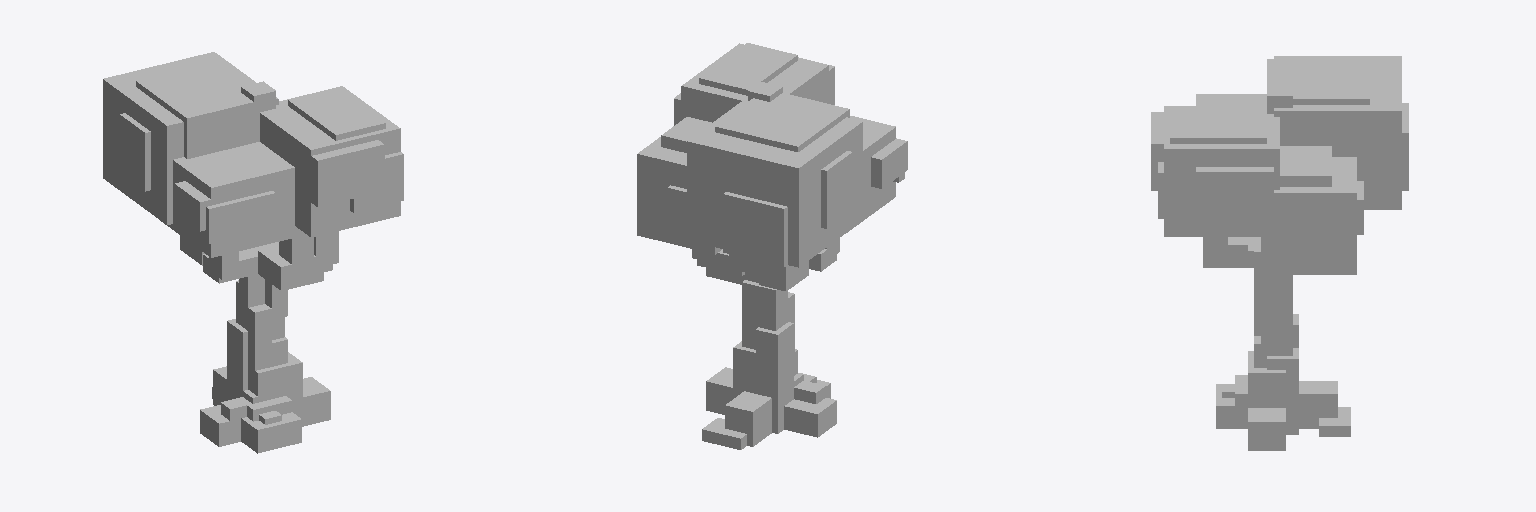
File: tree2.obj
3 renders of one model, left to right at view 1: azimuth 30°, elevation 25°; view 2: azimuth 150°, elevation 25°; view 3: azimuth 270°, elevation 25°, orthographic.
Visible parts, largest first — view 1: object 1; view 2: object 1; view 3: object 1.
Part boxes in pixels (bbox=[...]): object 1: bbox=[103, 52, 403, 453]; object 1: bbox=[637, 43, 907, 449]; object 1: bbox=[1151, 56, 1408, 450].
Size of the model in its own units: 3.5 by 5.7 by 4.